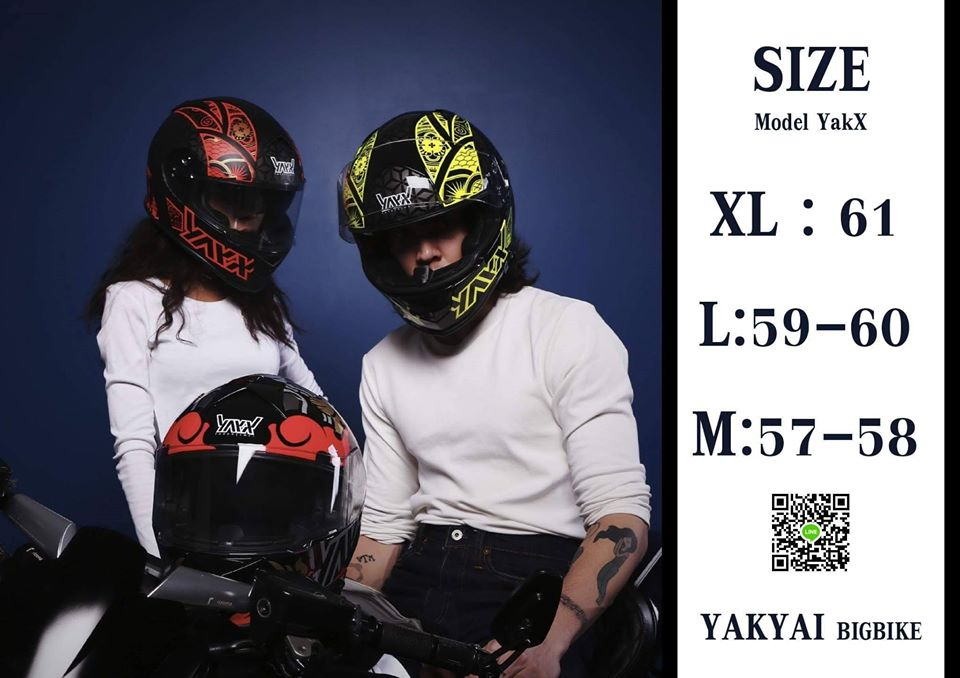helmet: (338, 110, 516, 331), (145, 97, 306, 293)
